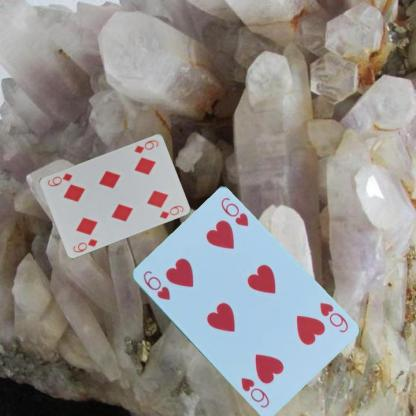6d: (70, 235, 99, 254), (132, 137, 160, 154)
6h: (317, 300, 349, 334), (140, 268, 171, 302)
